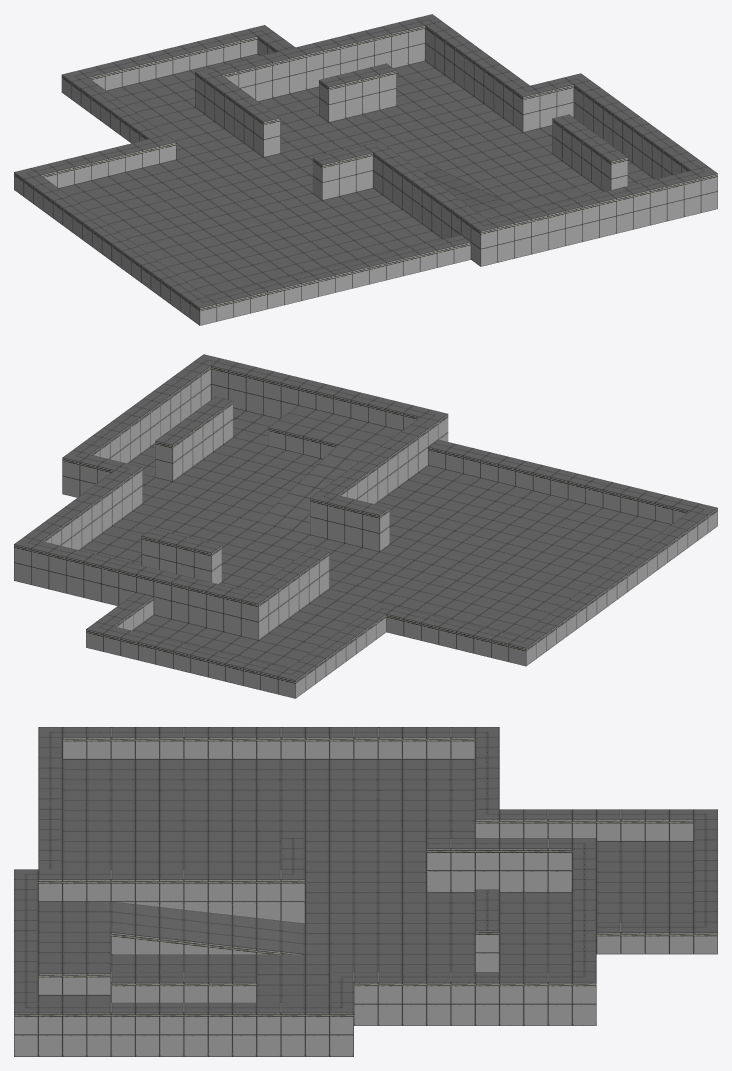
File: DemoLevel_01.fbx
The picture shows the model from 3 angles, top to bottom: view 1: azimuth 30°, elevation 25°; view 2: azimuth 150°, elevation 25°; view 3: azimuth 270°, elevation 25°; orthographic projection. The views are drawn at different scales.
Visible parts, largest first — view 1: Level; view 2: Level; view 3: Level.
Part boxes in pixels (<box>): Level: <box>14,14,717,325</box>; Level: <box>14,354,717,698</box>; Level: <box>14,727,717,1056</box>.
Size of the model in its own units: 6000 by 400 by 5800.
Materials: 1 (1 with a texture image).
